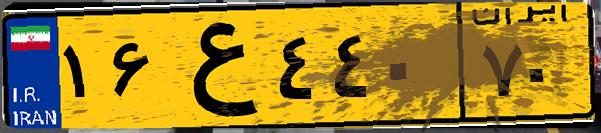0: (385, 28, 445, 110), (525, 38, 570, 115)
1: (57, 26, 110, 100)
4: (270, 28, 330, 110), (330, 28, 385, 110)
6: (110, 28, 158, 98)
7: (475, 38, 525, 113)
ع: (158, 12, 270, 120)
